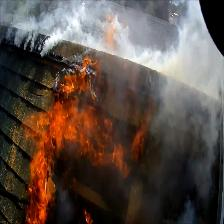fire: (41, 109, 91, 160)
smoke: (176, 50, 223, 184), (29, 5, 94, 47)
